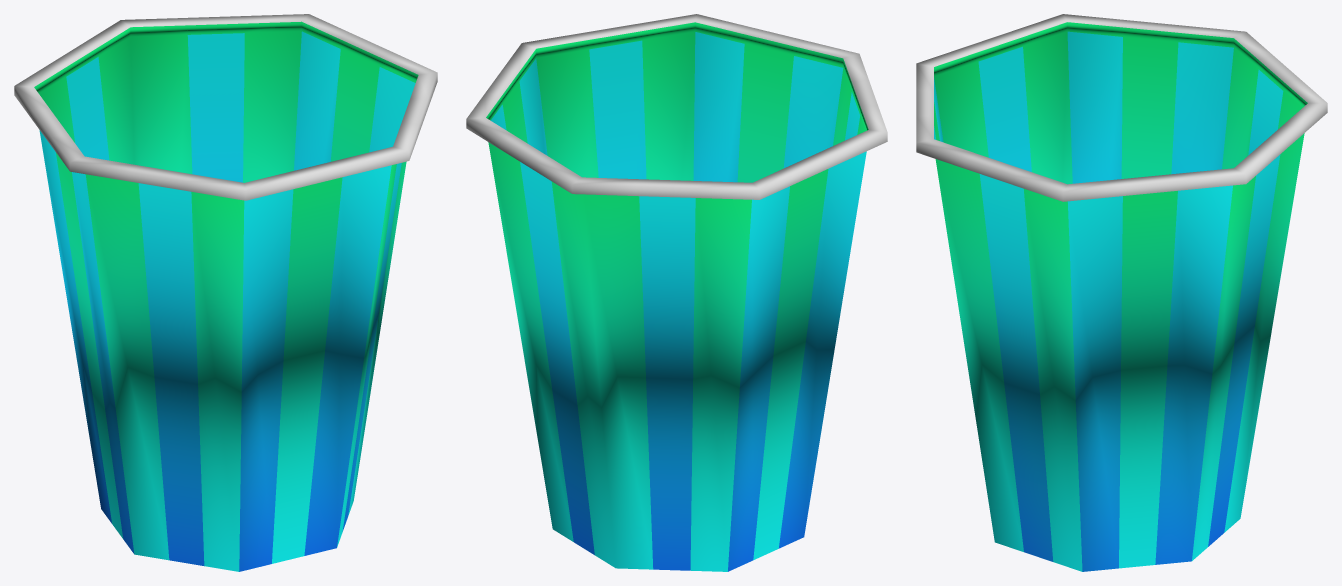
The model's file is cup green.fbx.
3 views of the same model, side by side, from view 1: azimuth 30°, elevation 25°; view 2: azimuth 150°, elevation 25°; view 3: azimuth 270°, elevation 25° (orthographic).
Visible parts, largest first — view 1: Circle.029; view 2: Circle.029; view 3: Circle.029.
Part boxes in pixels (<box>): Circle.029: <box>14,14,437,571</box>; Circle.029: <box>466,14,887,571</box>; Circle.029: <box>916,14,1327,571</box>.
Size of the model in its own units: 16.11 by 17.49 by 15.7.
